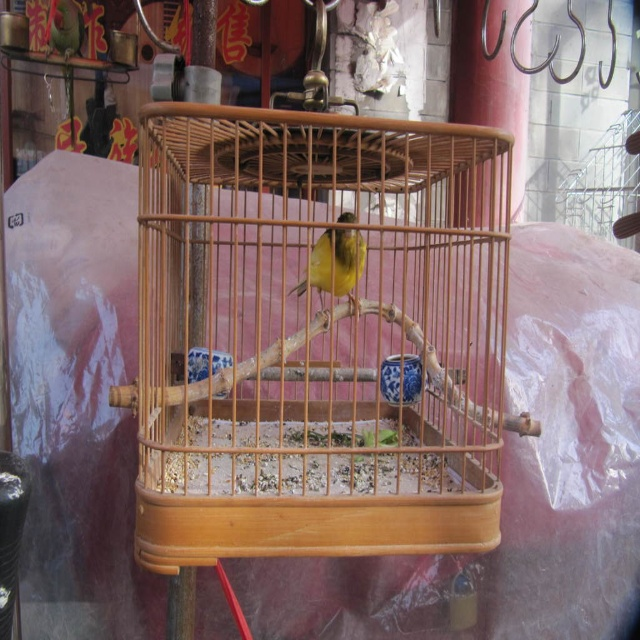Canary: (289, 214, 368, 327)
